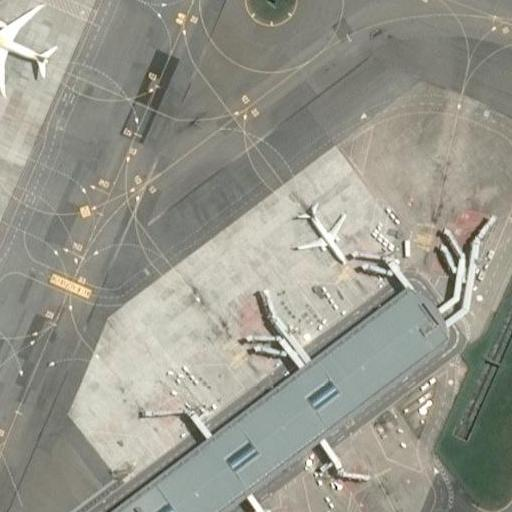Aircraft: (0, 2, 60, 96), (292, 199, 352, 267)
